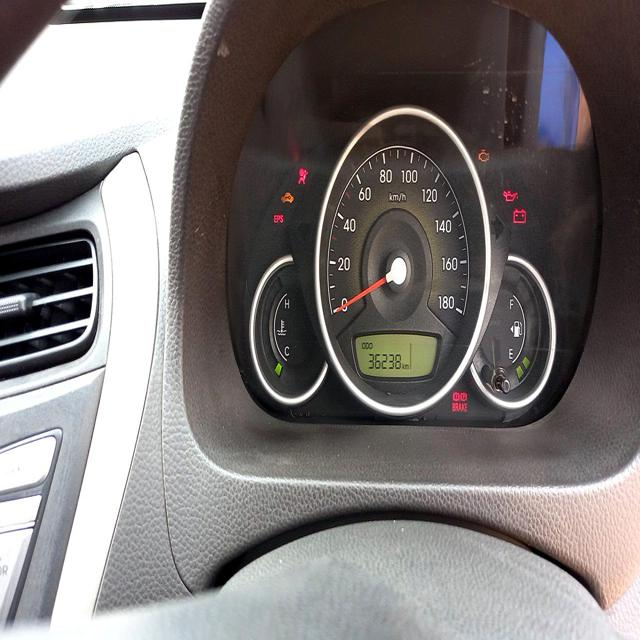odometer: (367, 348, 403, 371)
